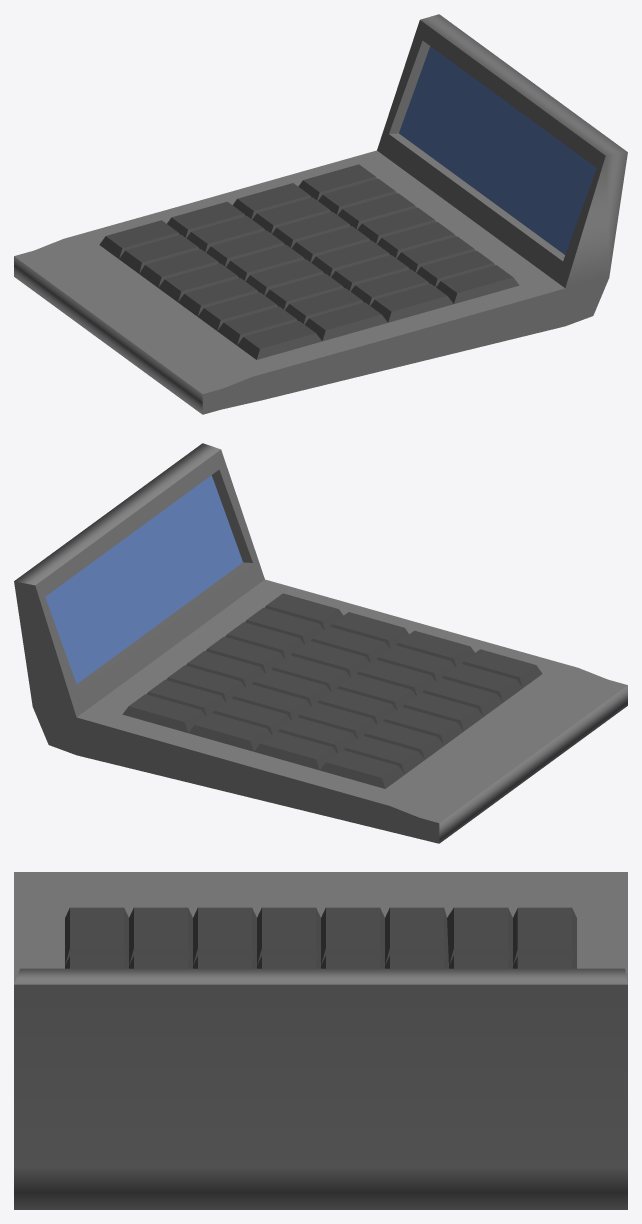
The model's file is SM_Calculator.fbx.
3 views of the same model, one above another, from view 1: azimuth 30°, elevation 25°; view 2: azimuth 150°, elevation 25°; view 3: azimuth 270°, elevation 25° (orthographic). The views are drawn at different scales.
Visible parts, largest first — view 1: SM_Calculator; view 2: SM_Calculator; view 3: SM_Calculator.
Part boxes in pixels (x1=…): SM_Calculator: x1=14, y1=14, x2=627, y2=414; SM_Calculator: x1=14, y1=443, x2=627, y2=843; SM_Calculator: x1=14, y1=872, x2=627, y2=1209.
Size of the model in its own units: 19.61 by 15.07 by 7.
1 material, 1 textured.
